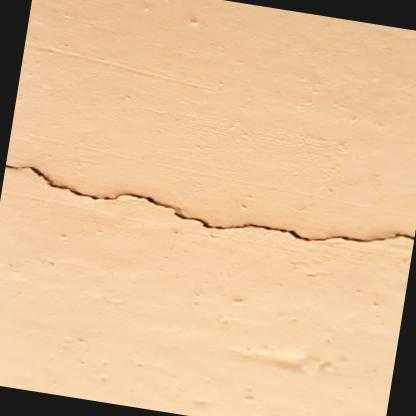crack: (4, 163, 414, 243)
